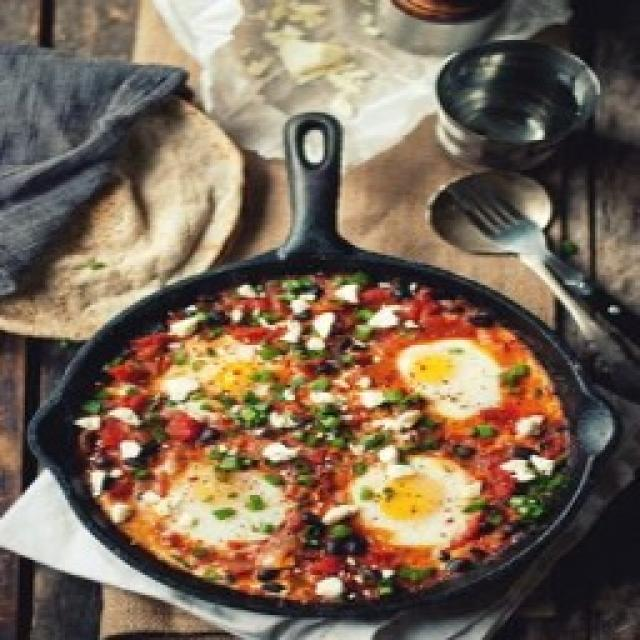Chakchouka: (28, 268, 588, 618)
